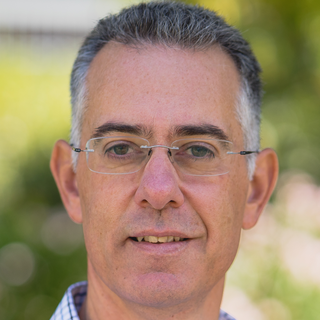eye: (99, 138, 145, 163), (175, 142, 220, 164)
